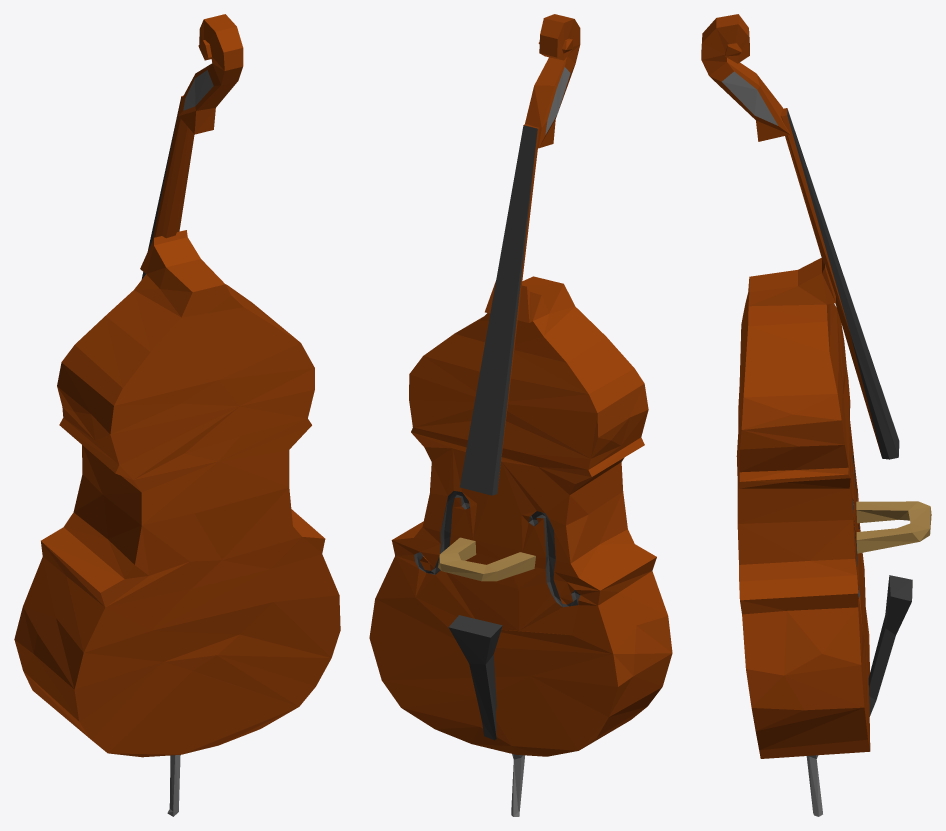
Rendered from cello.fbx.
3 views of the same model, side by side, from view 1: azimuth 30°, elevation 25°; view 2: azimuth 150°, elevation 25°; view 3: azimuth 270°, elevation 25° (orthographic). The views are drawn at different scales.
Visible parts, largest first — view 1: Cylinder.048; view 2: Cylinder.048; view 3: Cylinder.048.
Part boxes in pixels (bbox=[...]): Cylinder.048: bbox=[14, 14, 340, 816]; Cylinder.048: bbox=[369, 14, 672, 816]; Cylinder.048: bbox=[701, 14, 931, 816].
Bounding box in the file's own units: 593 × 1750 × 458.
